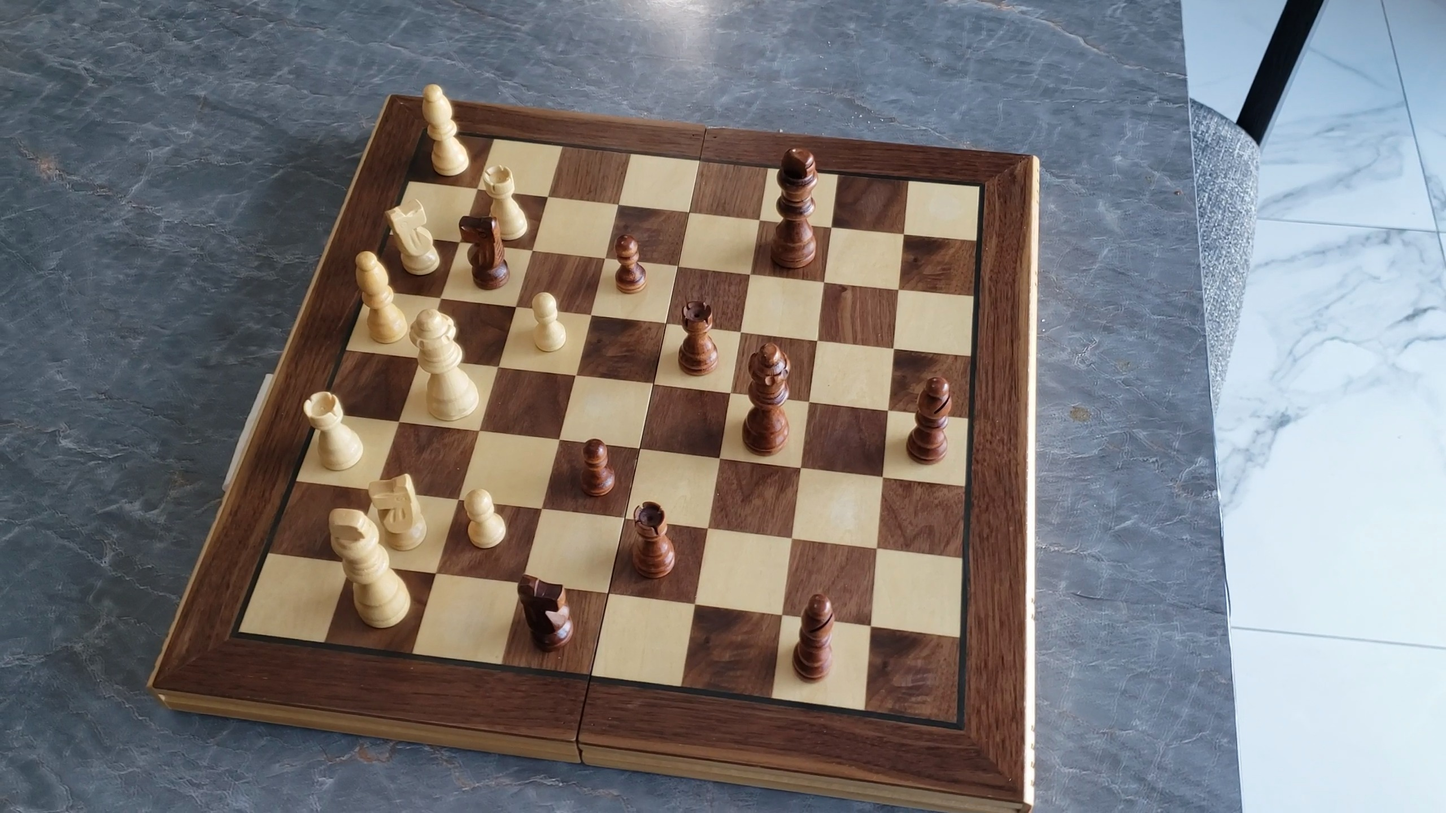black-bishop: (900, 373, 957, 475), (790, 590, 839, 685)
black-king: (770, 142, 822, 271)
black-knight: (515, 570, 578, 654), (460, 213, 514, 291)
black-pawn: (577, 434, 617, 499), (611, 230, 650, 296)
black-queen: (738, 339, 794, 460)
black-rook: (626, 499, 678, 581), (676, 298, 721, 377)
white-bishop: (351, 248, 411, 347), (413, 83, 473, 182)
white-king: (321, 505, 415, 631)
white-knight: (367, 469, 432, 553), (382, 196, 445, 278)
white-pawn: (458, 484, 511, 552), (526, 287, 572, 357)
white-queen: (407, 307, 484, 426)
white-rook: (300, 389, 368, 475), (478, 160, 533, 246)
